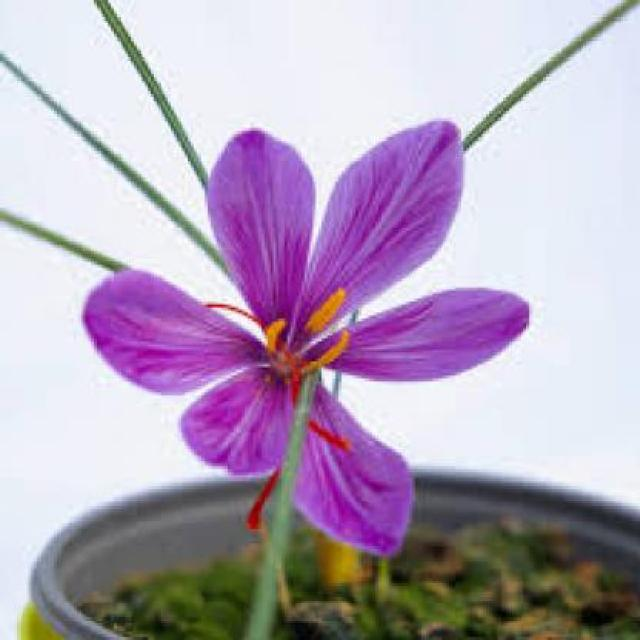Flower: (83, 124, 532, 551)
stigma: (206, 289, 305, 397), (239, 453, 279, 535)
